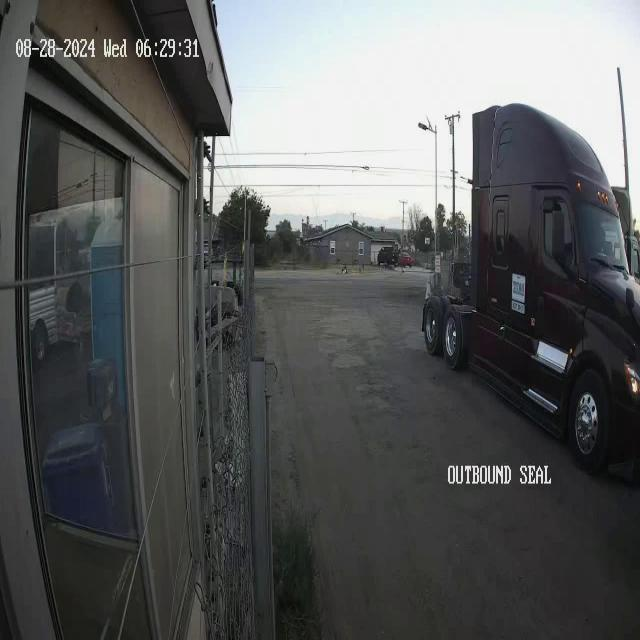BOBTAIL: (421, 99, 639, 474)
